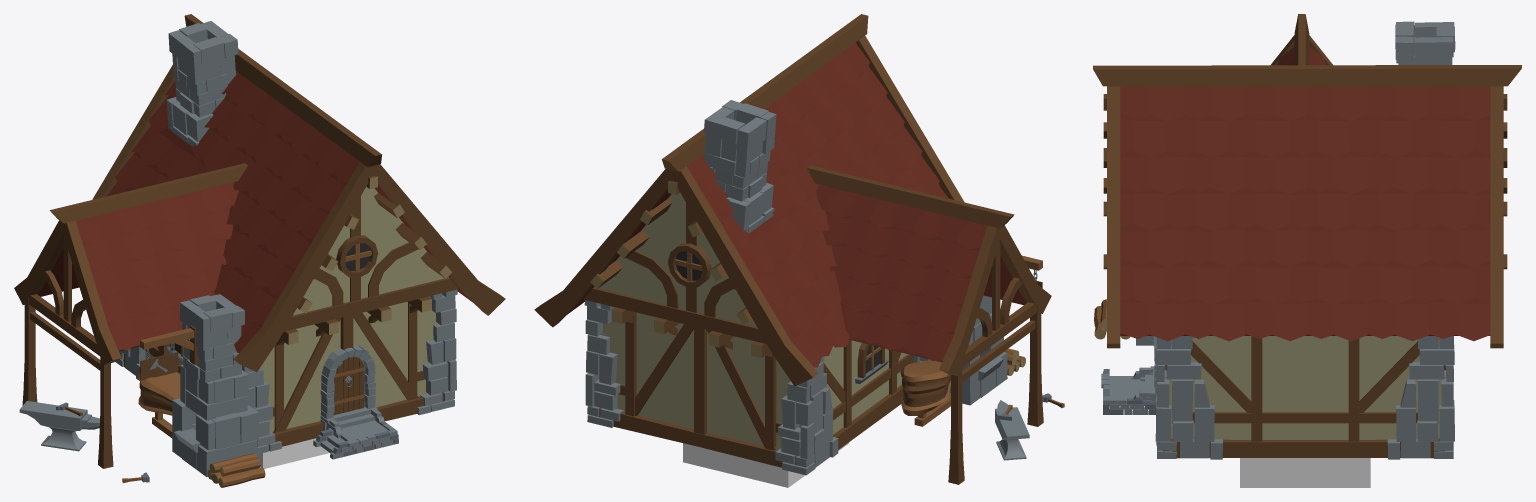
The model's file is blacksmith1.glb.
3 views of the same model, side by side, from view 1: azimuth 30°, elevation 25°; view 2: azimuth 150°, elevation 25°; view 3: azimuth 270°, elevation 25° (orthographic). The views are drawn at different scales.
Parts seen in each view (by area): view 1: Blacksmith, Cube; view 2: Blacksmith, Cube; view 3: Blacksmith, Cube.
Part boxes in pixels (x1,y1,x2,y2): Blacksmith: [14, 14, 505, 487]; Cube: [257, 438, 329, 468]; Blacksmith: [534, 14, 1064, 484]; Cube: [683, 442, 848, 487]; Blacksmith: [1093, 14, 1521, 459]; Cube: [1240, 458, 1370, 487].
Bounding box in the file's own units: 7.78 × 7 × 6.57.
